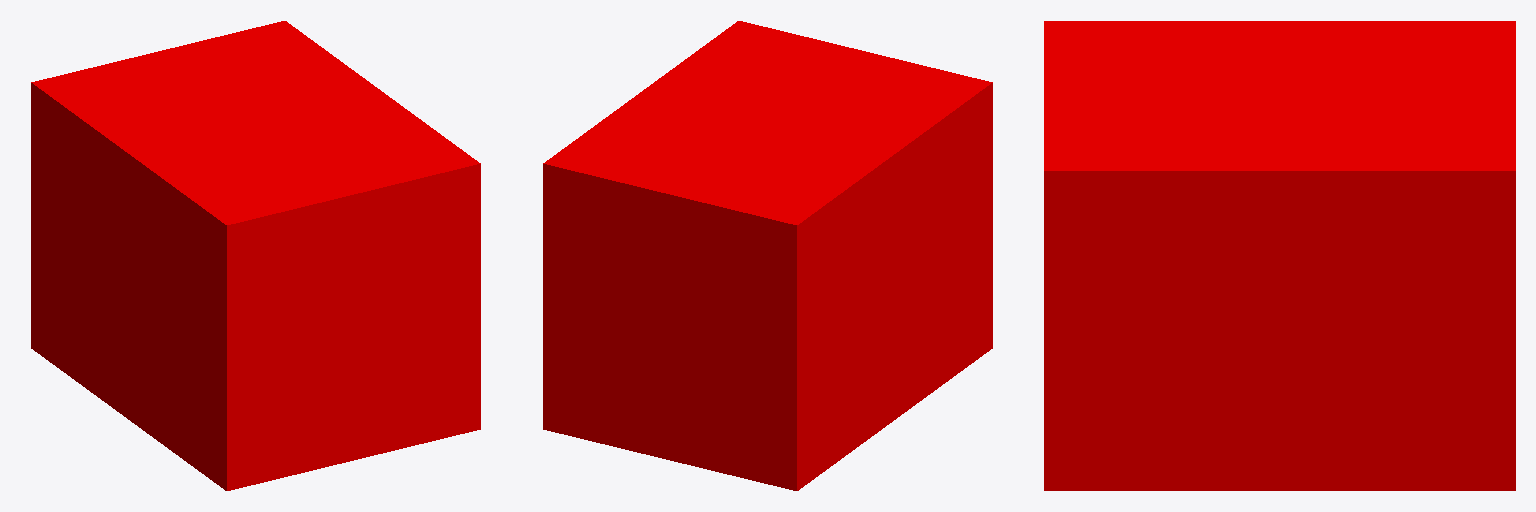
The robot description file, URDF, robot "small_box":
<?xml version="1.0" ?>
<robot name="small_box">

  <link name="base">
    <inertial>
      <mass value="0.05"/>
      <inertia ixx="0.00001" iyy="0.00001" izz="0.00001"/>
    </inertial>

    <visual>
      <geometry>
        <box size="0.030 0.04 0.030"/>
      </geometry>
      <material name="red">
        <color rgba="1 0 0 1"/>
      </material>
    </visual>

    <collision>
      <geometry>
        <box size="0.030 0.025 0.030"/>
      </geometry>
    </collision>
    
  </link>
</robot>

--- What the picture shows (computed from the rendered views, not written in the file) ---
Views: 3 orthographic renders of the robot side by side, from view 1: azimuth 30°, elevation 25°; view 2: azimuth 150°, elevation 25°; view 3: azimuth 270°, elevation 25°.
Robot: small_box — 1 links, 0 joints (none); root link base; default pose: every joint at zero.
Visible links, largest first — view 1: base; view 2: base; view 3: base.
Link boxes in pixels (x1,y1,x2,y2): base: [31, 21, 480, 490]; base: [543, 21, 992, 490]; base: [1044, 21, 1515, 490].
Size in the robot's own frame: 0.03 by 0.04 by 0.03 metres.
Geometry: primitives only (box / cylinder / sphere), no mesh files.